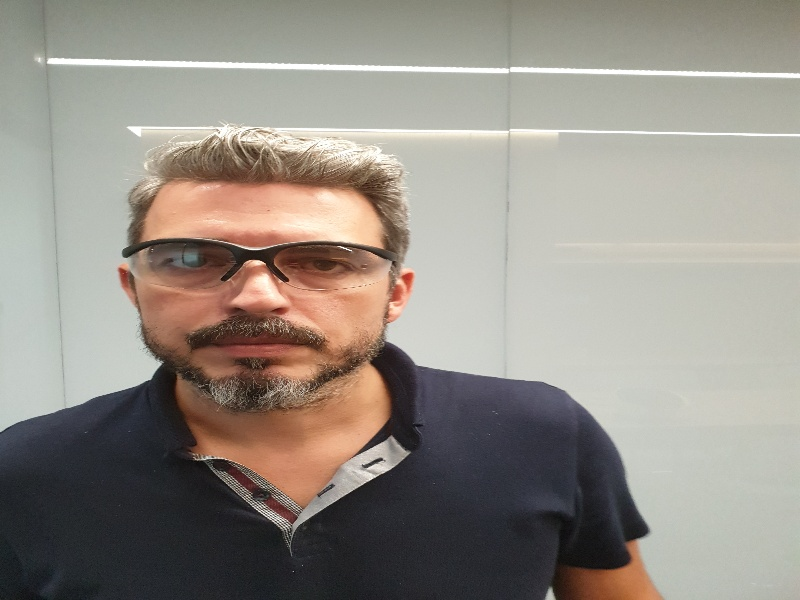Gozluk: (123, 235, 402, 300)
